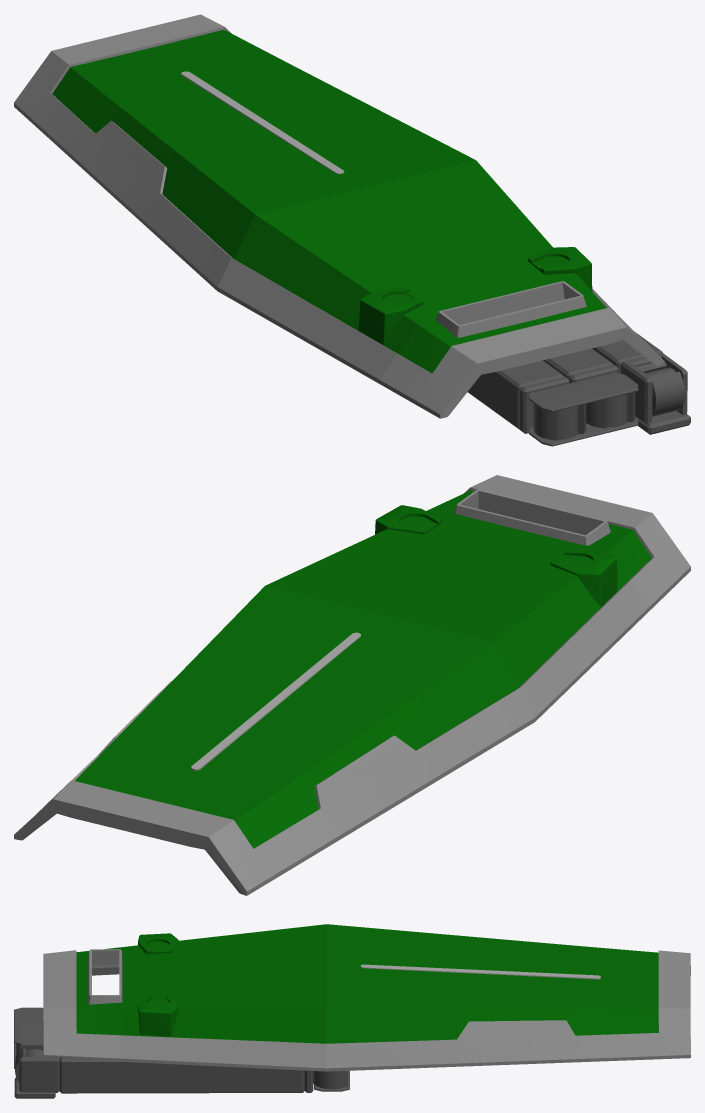
File: Shield.fbx
3 views of the same model, one above another, from view 1: azimuth 30°, elevation 25°; view 2: azimuth 150°, elevation 25°; view 3: azimuth 270°, elevation 25° (orthographic). The views are drawn at different scales.
Visible parts, largest first — view 1: Shield_2, Shield_Arm_2_Piece_9, Shield_Arm_2_Piece_11, Shield_Arm_2_Piece_1, Shield_Arm_2_Piece_2, Shield_Arm_2_Piece_10, Shield_Arm_2_Piece_8, Shield_Arm_2_Piece_7, Shield_Arm_2_Piece_3; view 2: Shield_2; view 3: Shield_2, Shield_Arm_2_Piece_3, Shield_Arm_2_Piece_2, Shield_Arm_2_Piece_9, Shield_Arm_2_Piece_4, Shield_Arm_2_Piece_1.
Boxes of the visible parts, left/top/right/bottom form: Shield_2: left=14, top=14, right=663, bottom=418; Shield_Arm_2_Piece_9: left=529, top=372, right=638, bottom=446; Shield_Arm_2_Piece_11: left=468, top=360, right=563, bottom=429; Shield_Arm_2_Piece_1: left=637, top=360, right=690, bottom=434; Shield_Arm_2_Piece_2: left=621, top=352, right=687, bottom=423; Shield_Arm_2_Piece_10: left=520, top=376, right=585, bottom=440; Shield_Arm_2_Piece_8: left=569, top=364, right=635, bottom=428; Shield_Arm_2_Piece_7: left=543, top=348, right=613, bottom=379; Shield_Arm_2_Piece_3: left=592, top=331, right=662, bottom=373; Shield_2: left=14, top=475, right=690, bottom=895; Shield_2: left=43, top=924, right=690, bottom=1071; Shield_Arm_2_Piece_3: left=59, top=1056, right=304, bottom=1093; Shield_Arm_2_Piece_2: left=19, top=1043, right=59, bottom=1092; Shield_Arm_2_Piece_9: left=14, top=1007, right=43, bottom=1068; Shield_Arm_2_Piece_4: left=304, top=1070, right=348, bottom=1092; Shield_Arm_2_Piece_1: left=14, top=1047, right=55, bottom=1098.
Bounding box in the file's own units: 5.45 × 2.07 × 14.2.
